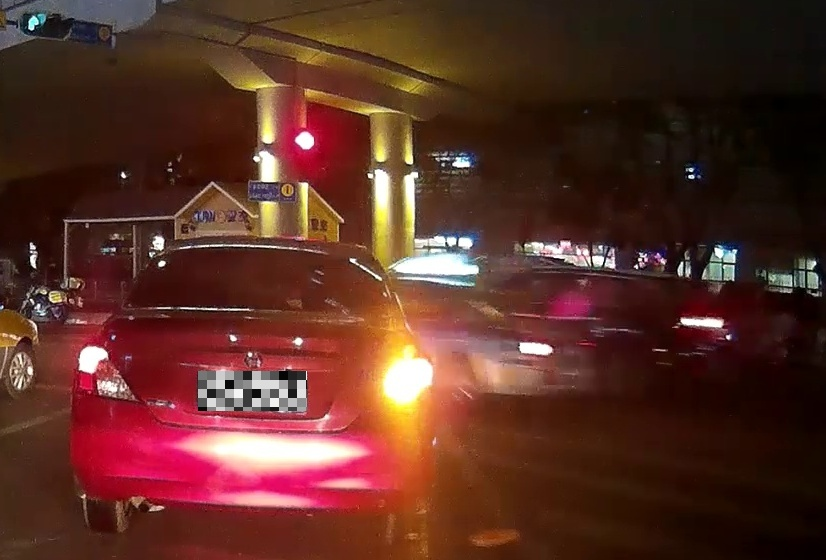L_light: (73, 342, 145, 404)
R_light: (379, 355, 432, 407)
T_light: (245, 246, 287, 252)
night-right: (70, 234, 435, 560)
plate_1: (198, 371, 307, 411)
